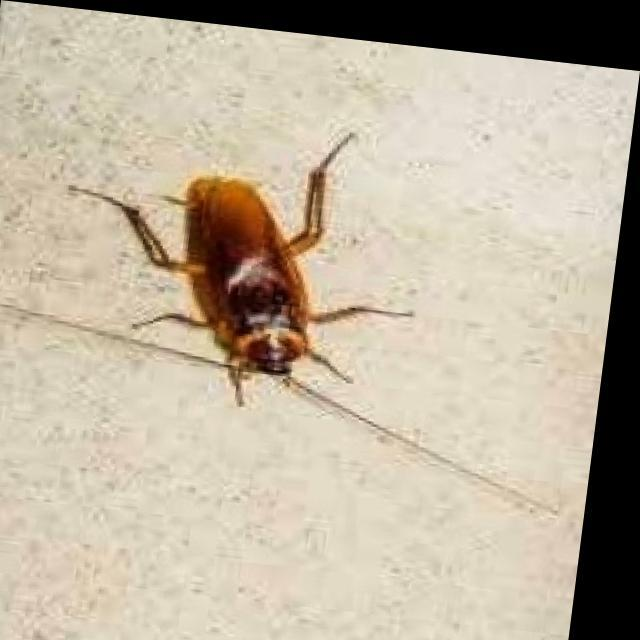cockroach: (74, 104, 426, 386)
